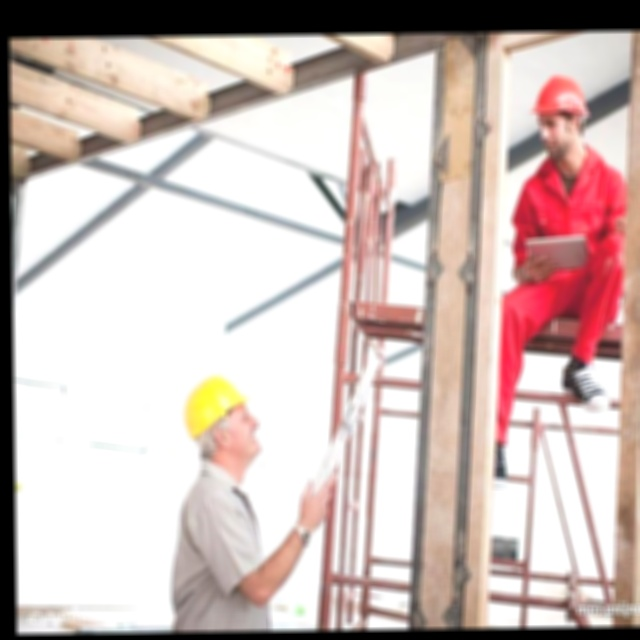Con_Casco: (181, 365, 261, 469), (532, 72, 592, 158)
